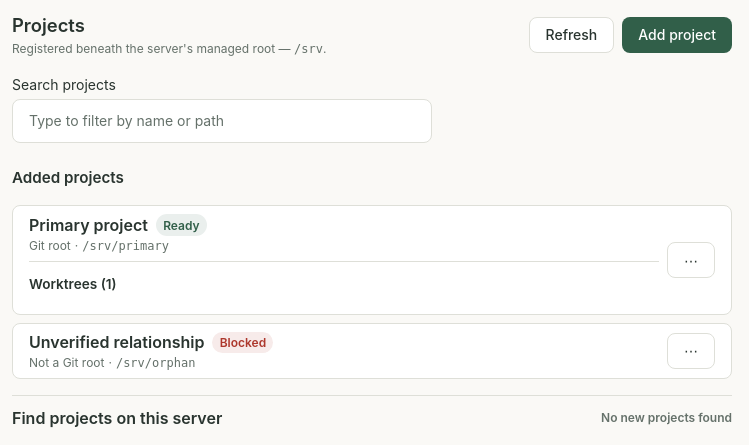
Test: ProjectPicker worktree disclosure › matches a child without duplicating it as a top-level project
Expected: the heading "Worktrees (1)" is shown, [29,276,117,292]
Type "feature" into the field named "Search projects and available candidates".
click(222, 121); type("feature")  # box [12,99,432,143]
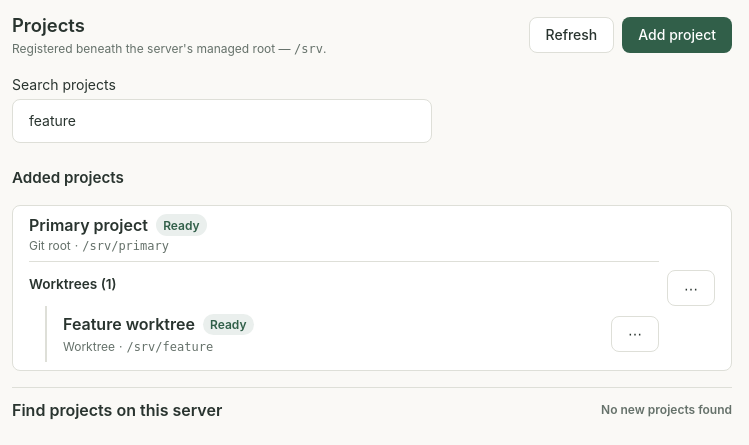
Expected: the button "Feature worktree Ready Worktree · /srv/feature" is shown, [55,310,603,358]
